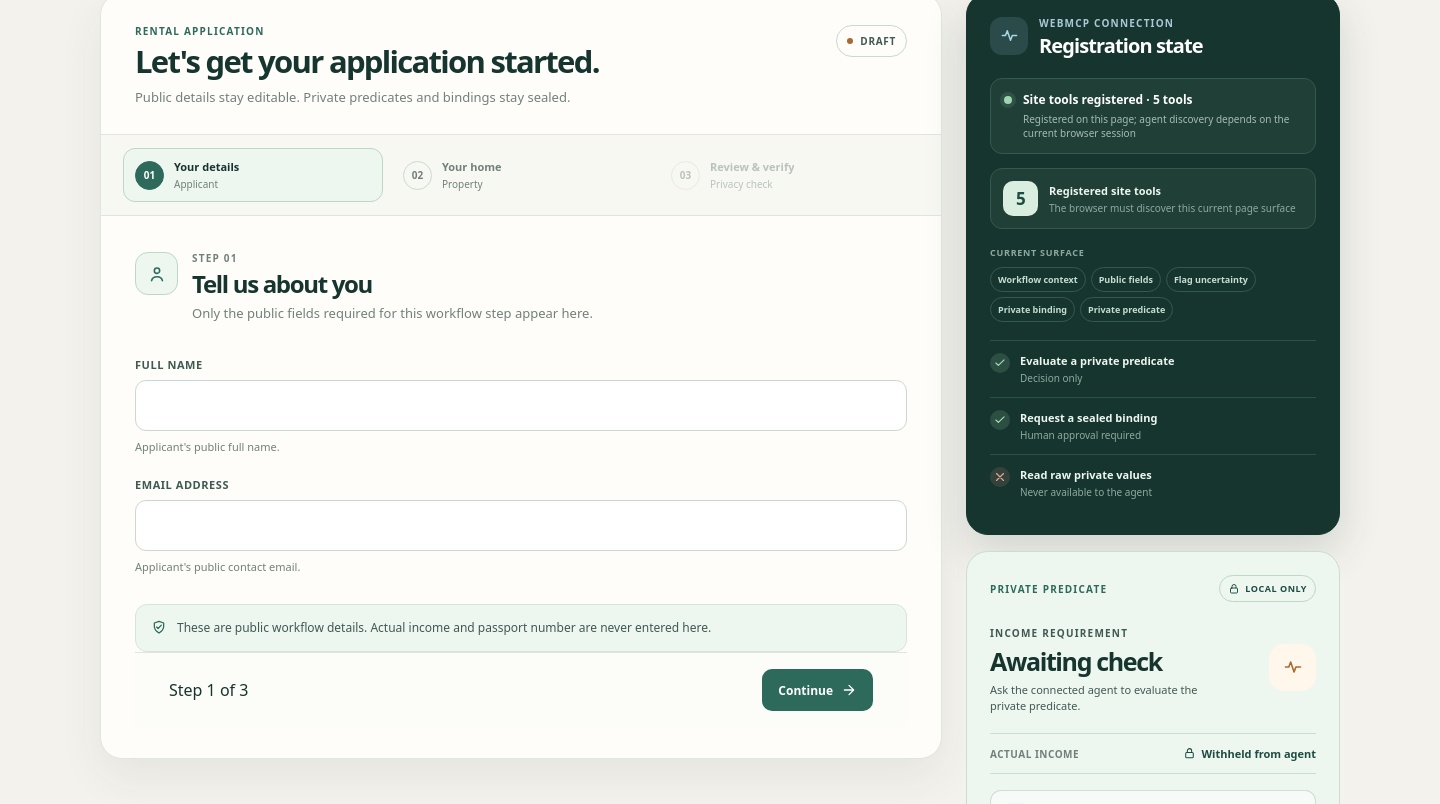
it: sealed application UI and native registration › unregisters the old surface and registers the new surface as the wizard advances
(page scrolled)
Type "Aylin Mammadova" into the field labelled "Full name" at (521, 406), box [135,380,907,431]
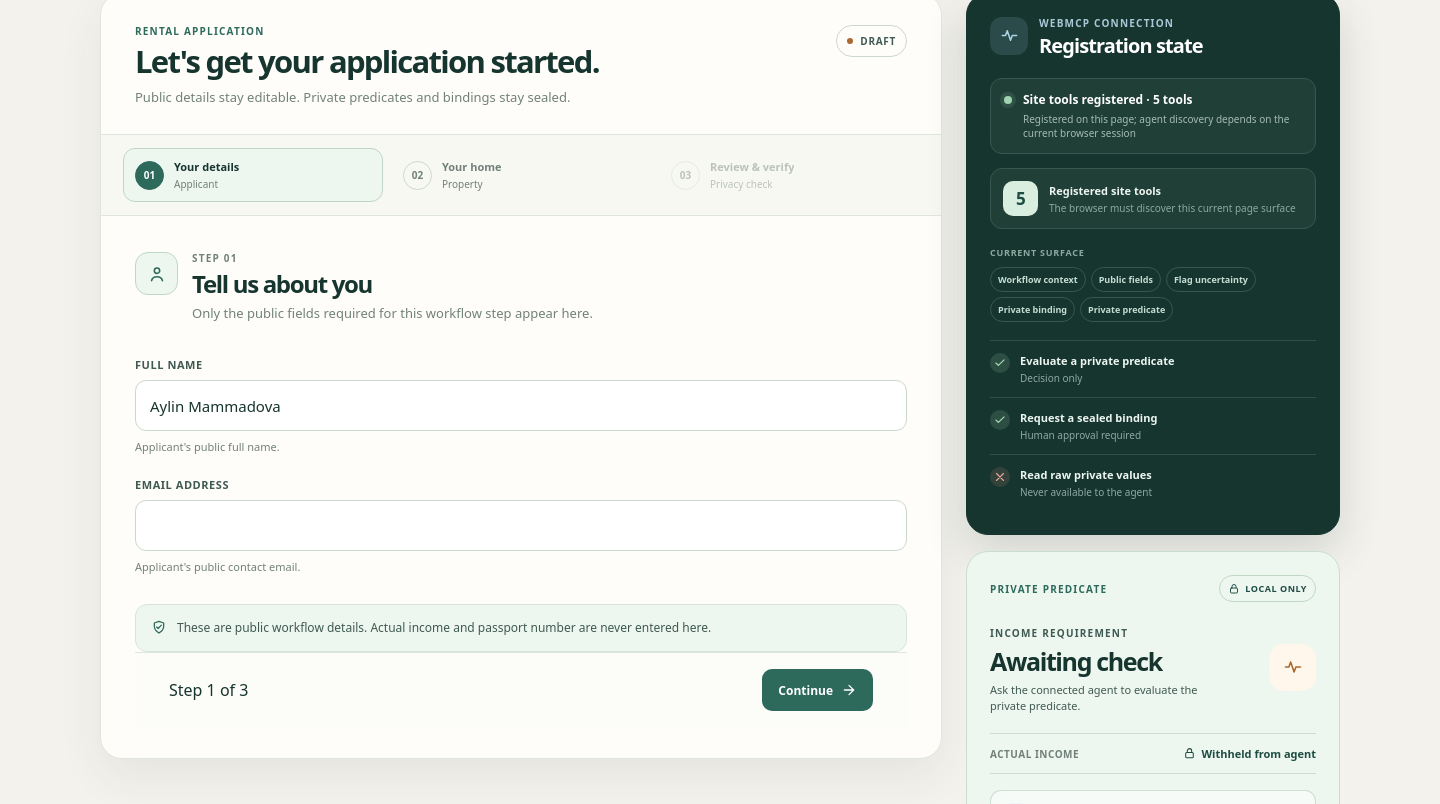
Type "aylin@example.com" into the field labelled "Email address Applicant's public contact email." at (521, 525), box [135,500,907,551]
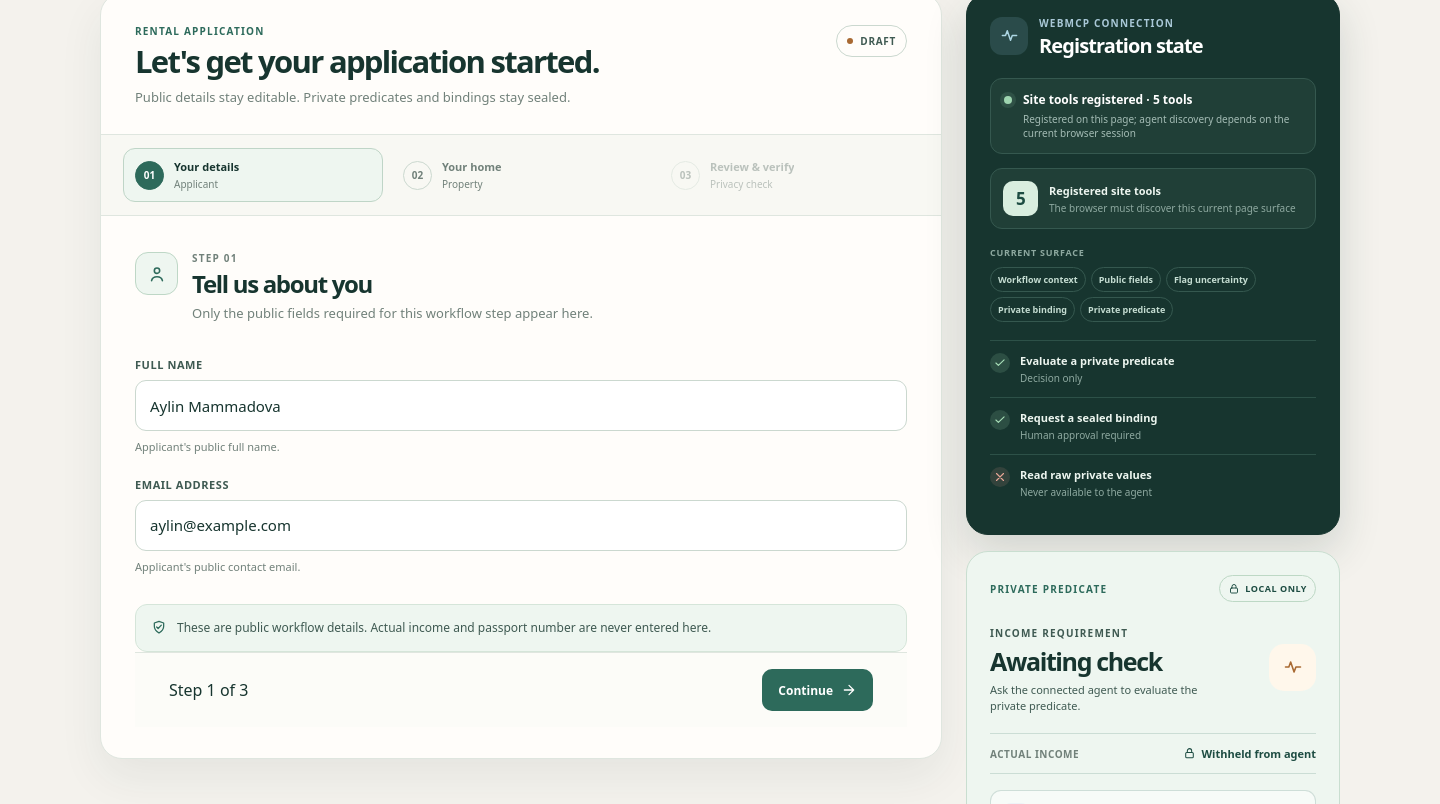
Click the button "Continue" at (818, 690), box [762,669,873,711]
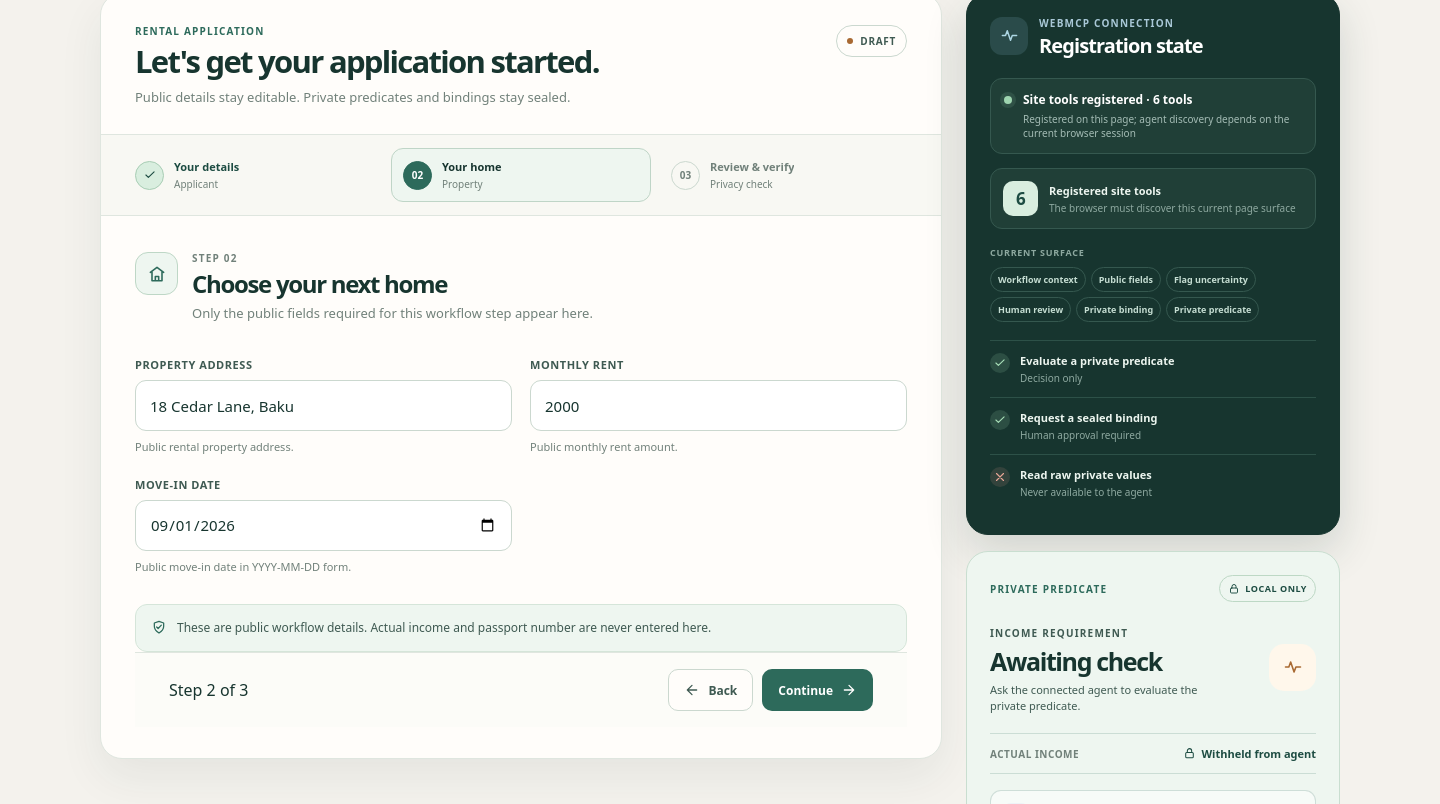
Click the button "Continue" at (818, 690), box [762,669,873,711]
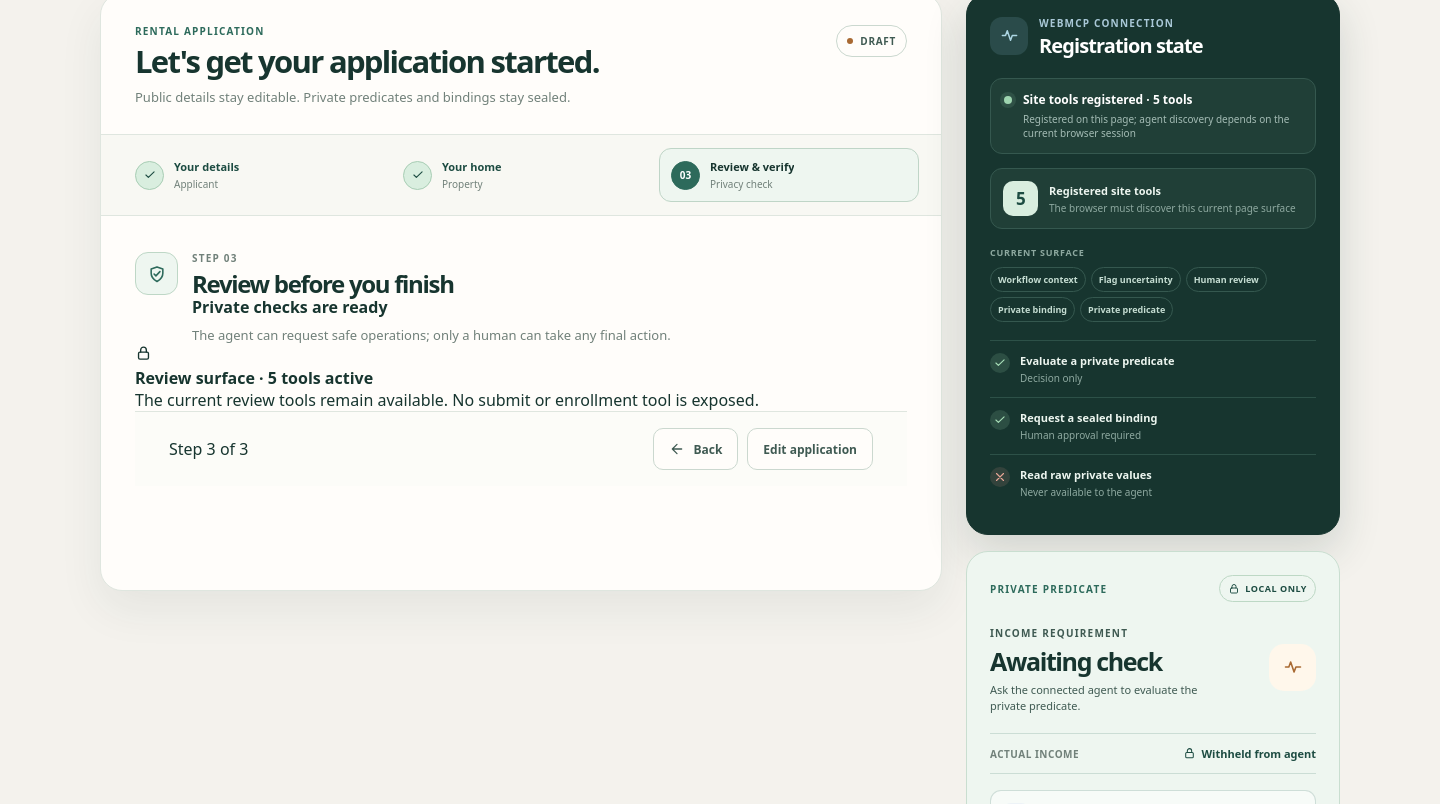
Result: the heading "Review before you finish" is shown at [192,267,454,300]
